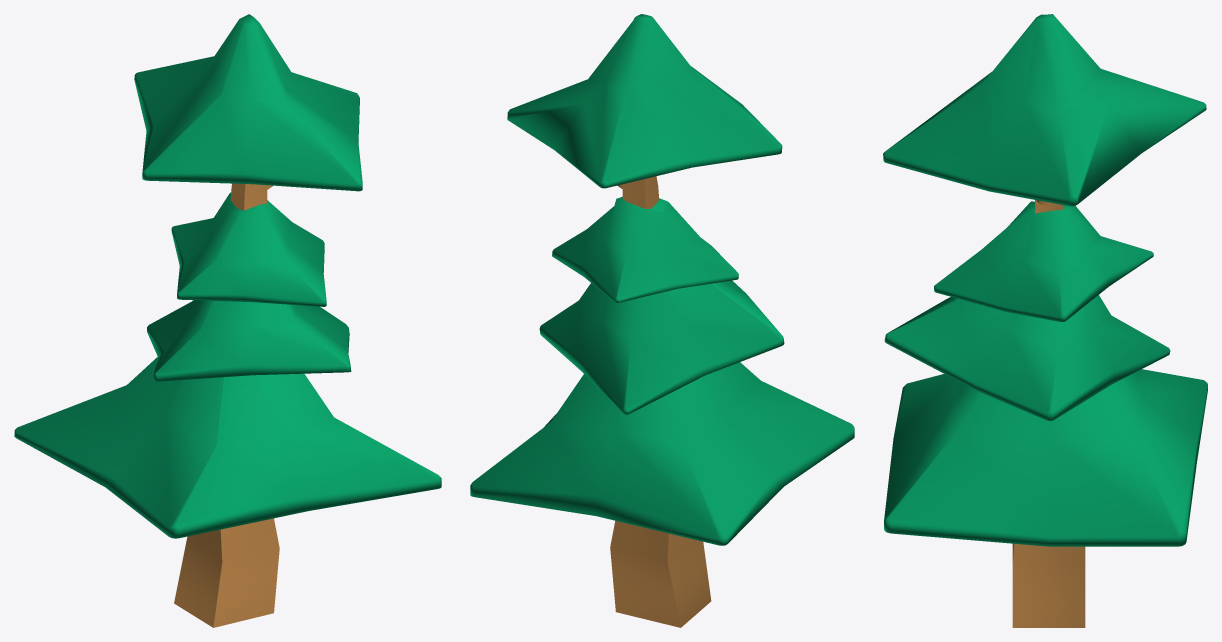
The model's file is ArvoreFloresta02.fbx.
3 renders of one model, left to right at view 1: azimuth 30°, elevation 25°; view 2: azimuth 150°, elevation 25°; view 3: azimuth 270°, elevation 25°, orthographic. The views are drawn at different scales.
Visible parts, largest first — view 1: Cube.003, Cube.001; view 2: Cube.003, Cube.001; view 3: Cube.003, Cube.001.
Part boxes in pixels (x1,y1,x2,y2): Cube.003: [14, 14, 441, 538]; Cube.001: [174, 183, 279, 627]; Cube.003: [470, 14, 854, 545]; Cube.001: [610, 176, 711, 627]; Cube.003: [883, 14, 1207, 546]; Cube.001: [1012, 200, 1085, 627].
Size of the model in its own units: 763 by 1514 by 734.
Materials: 2 (2 with a texture image).
